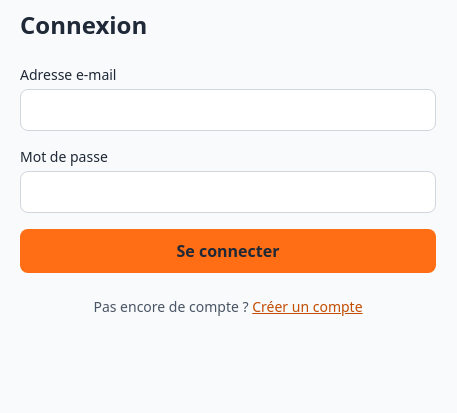
Test: page de connexion › affiche un message clair quand le réseau est coupé
Type "marie@test.fr" into the field labelled "Adresse e-mail" at (228, 110), box top-left (20, 89), bottom-right (436, 131)
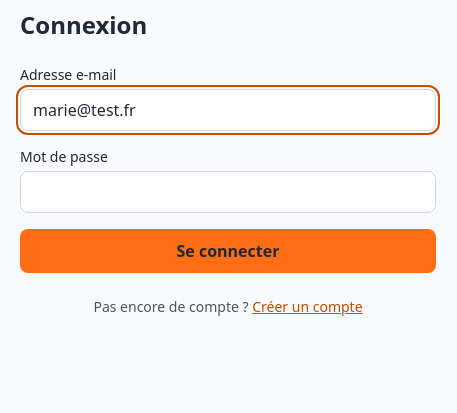
Type "motdepasse" into the password field labelled "Mot de passe" at (228, 192), box top-left (20, 171), bottom-right (436, 213)
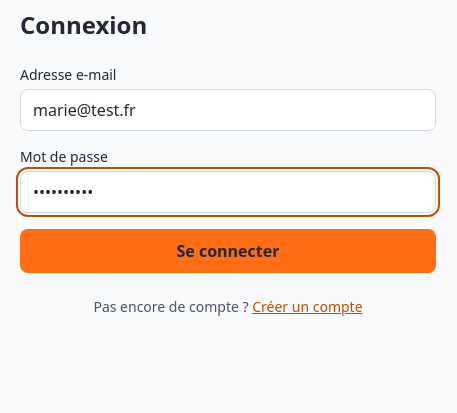
Click the button "Se connecter" at (228, 251), box top-left (20, 229), bottom-right (436, 273)
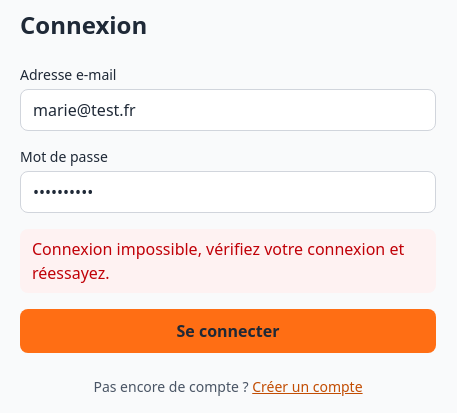
Now the message shows "Connexion impossible", box top-left (32, 238), bottom-right (404, 284)
